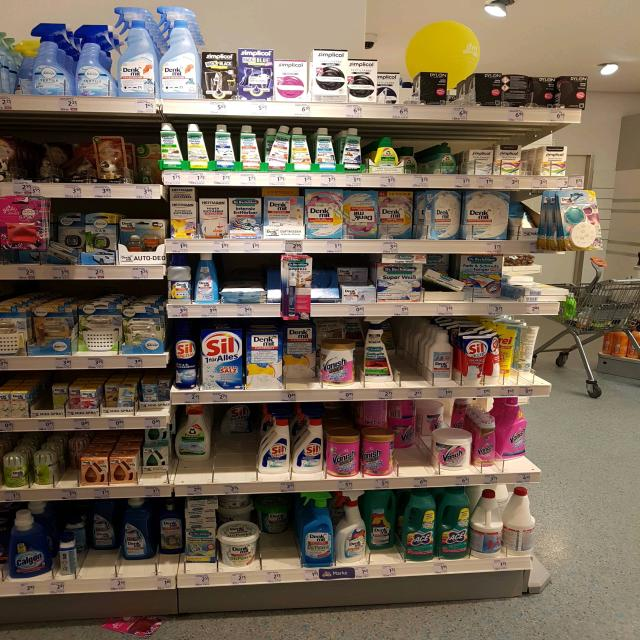empty: (444, 65, 479, 110)
